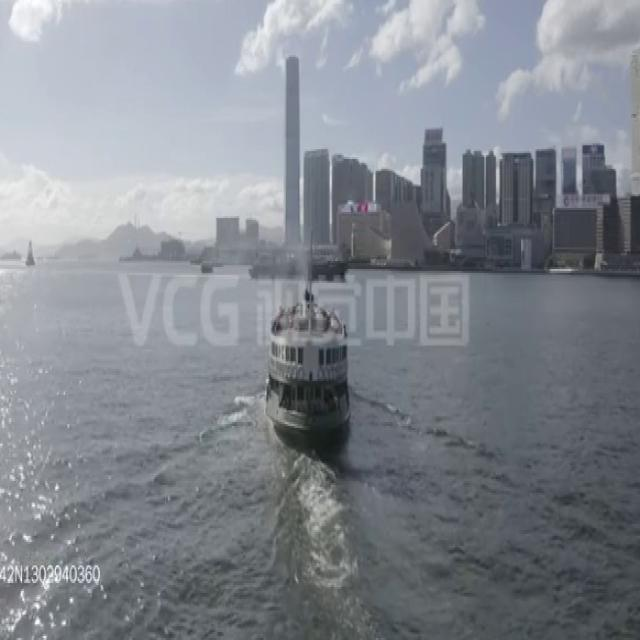passenger ship: (260, 274, 357, 441), (247, 233, 347, 278)
